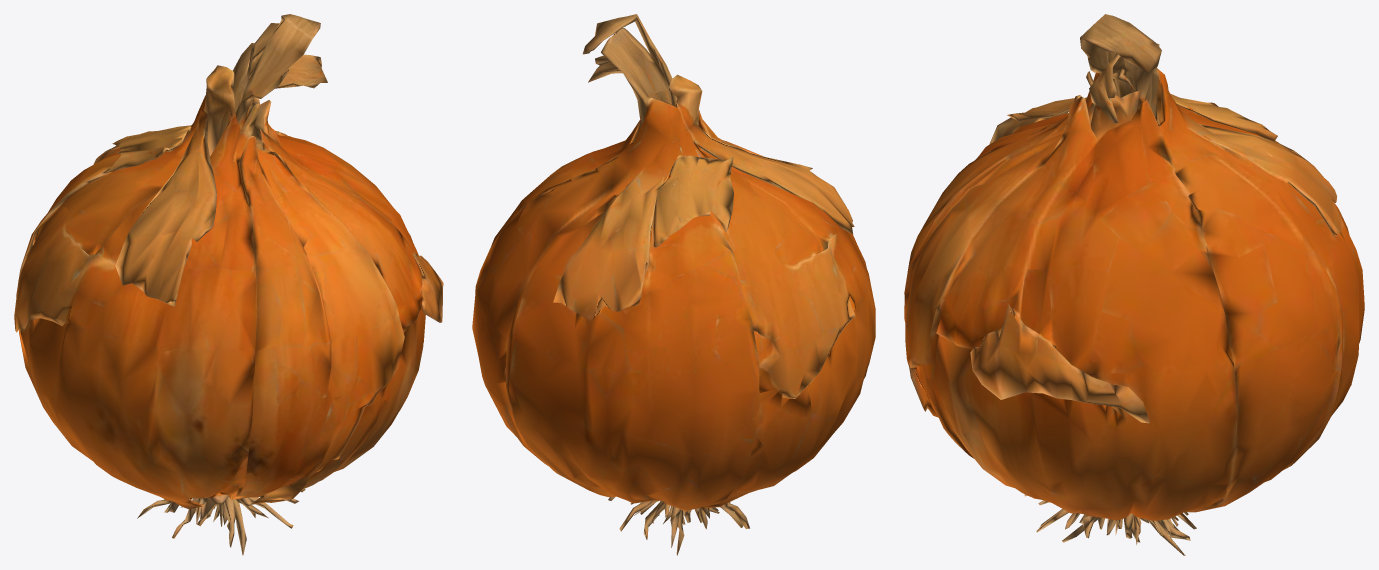
File: d_onion.glb
3 renders of one model, left to right at view 1: azimuth 30°, elevation 25°; view 2: azimuth 150°, elevation 25°; view 3: azimuth 270°, elevation 25°, orthographic. The views are drawn at different scales.
Bounding box in the file's own units: 1.44 × 1.9 × 1.41.
Materials: 1 (1 with a texture image).
